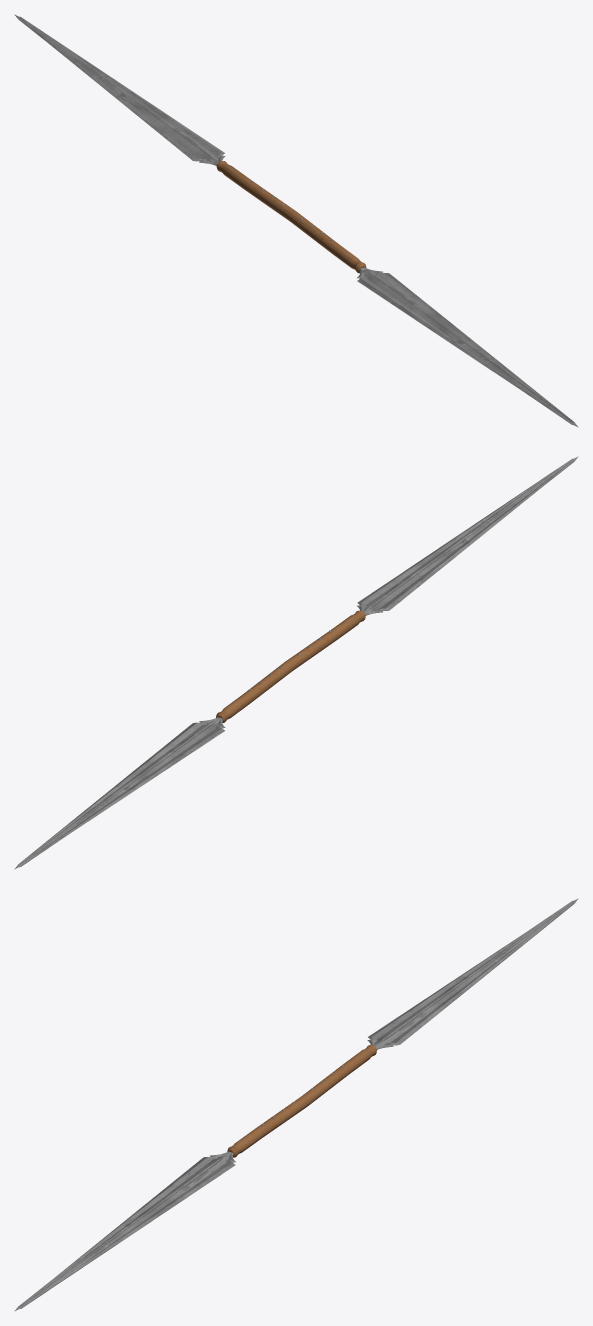
Rendered from Double_Blade.fbx.
The picture shows the model from 3 angles, top to bottom: view 1: azimuth 30°, elevation 25°; view 2: azimuth 150°, elevation 25°; view 3: azimuth 330°, elevation 25°; orthographic projection.
Visible parts, largest first — view 1: Sphere.004; view 2: Sphere.004; view 3: Sphere.004.
Part boxes in pixels (<box>): Sphere.004: <box>14,14,578,427</box>; Sphere.004: <box>14,456,578,869</box>; Sphere.004: <box>14,898,578,1311</box>.
Size of the model in its own units: 9.23 by 3.78 by 280.
